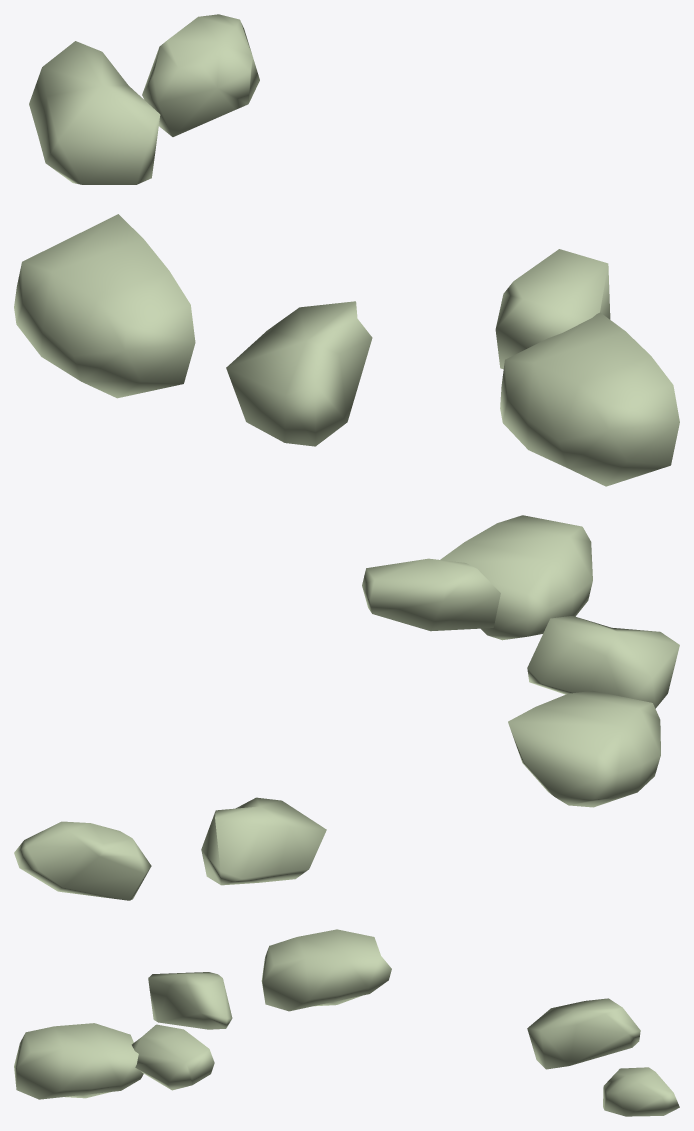
Rendered from Pavement_08B_Lod0.fbx.
The picture shows the model from 3 angles, top to bottom: view 1: azimuth 30°, elevation 25°; view 2: azimuth 150°, elevation 25°; view 3: azimuth 270°, elevation 25°; orthographic projection. The views are drawn at different scales.
Visible parts, largest first — view 1: Pavement_08B_Lod0; view 2: Pavement_08B_Lod0; view 3: Pavement_08B_Lod0.
Part boxes in pixels (box(x1,y1,x2,y2)): Pavement_08B_Lod0: box(14, 14, 679, 486); Pavement_08B_Lod0: box(14, 515, 679, 900); Pavement_08B_Lod0: box(14, 929, 679, 1116).
Bounding box in the file's own units: 94.41 × 24.52 × 186.
